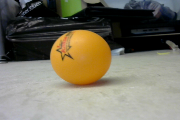PingPongBall: (50, 29, 111, 86)
